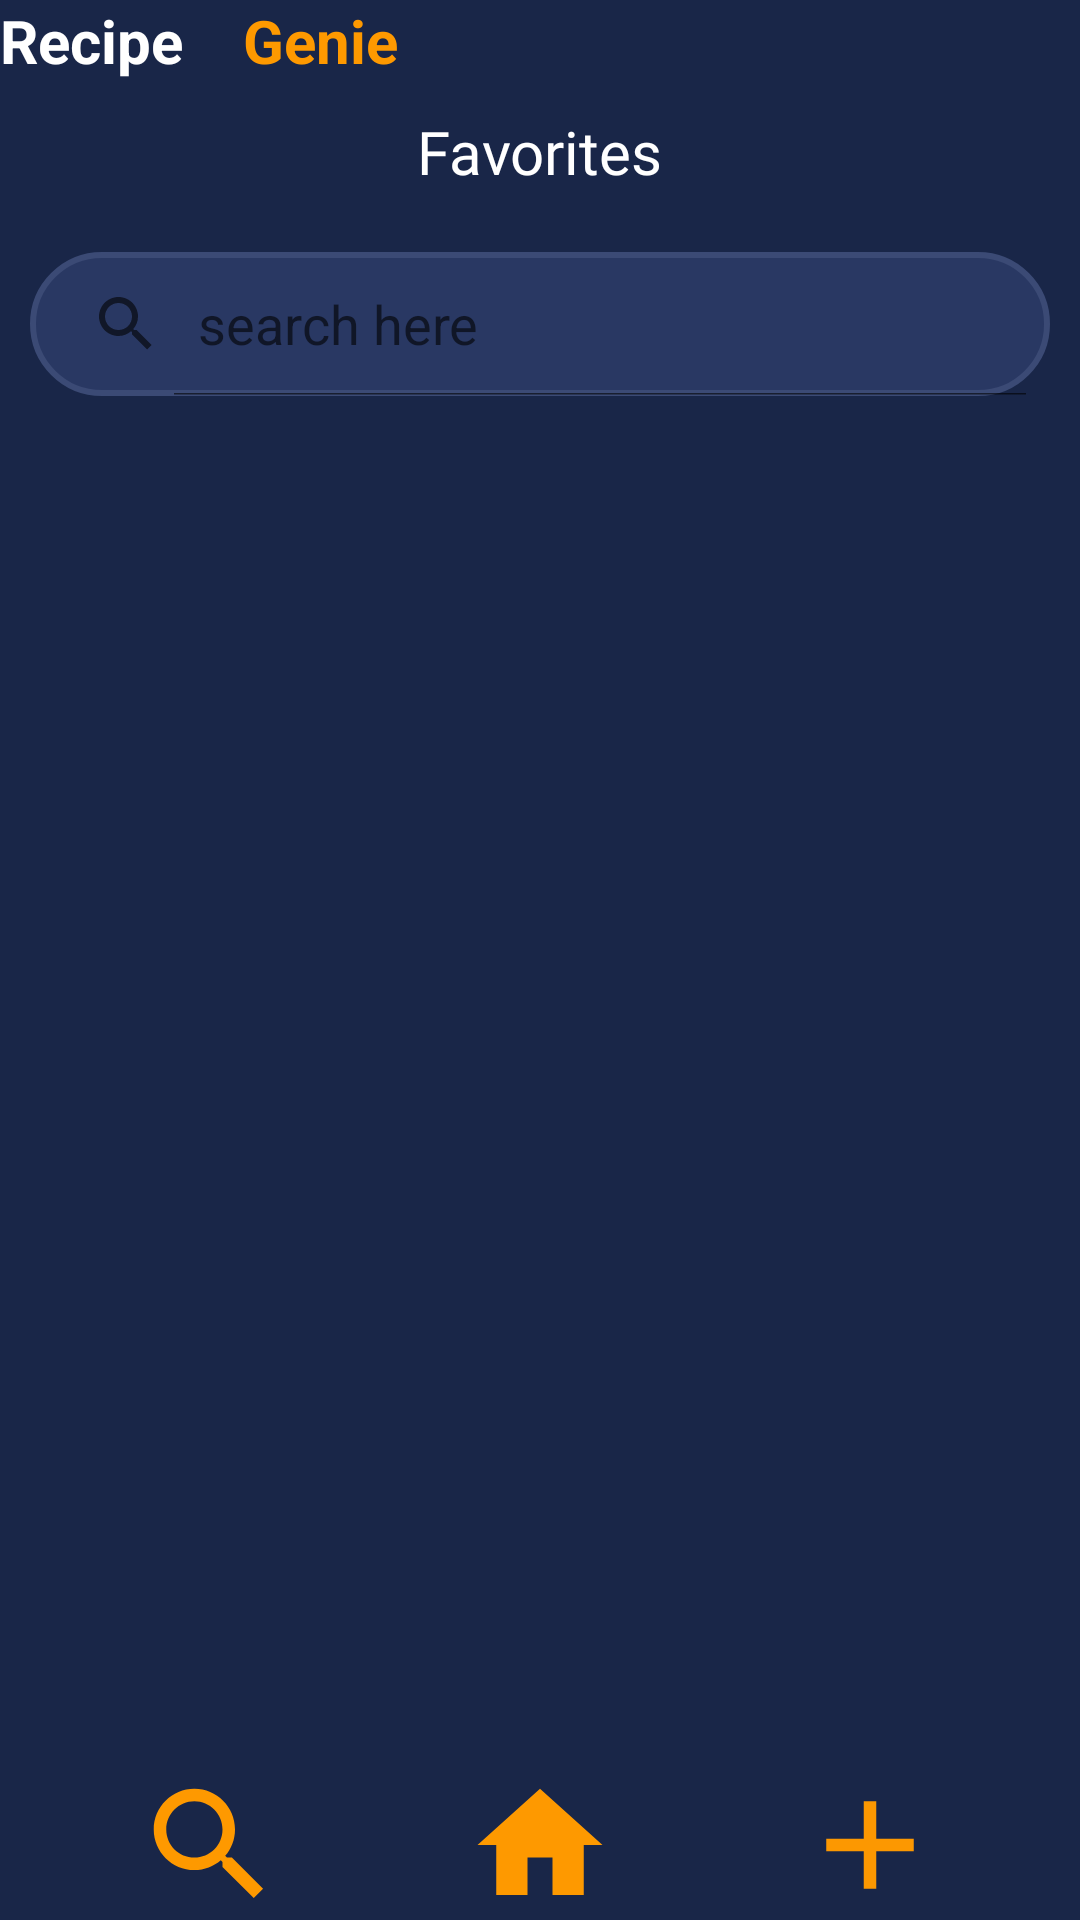

Icons on this 1080×1920 Android screen, each with its box as (x1, y1, x2, y2):
add: (826, 1801, 914, 1889)
home: (478, 1789, 602, 1895)
search: (153, 1788, 263, 1898)
